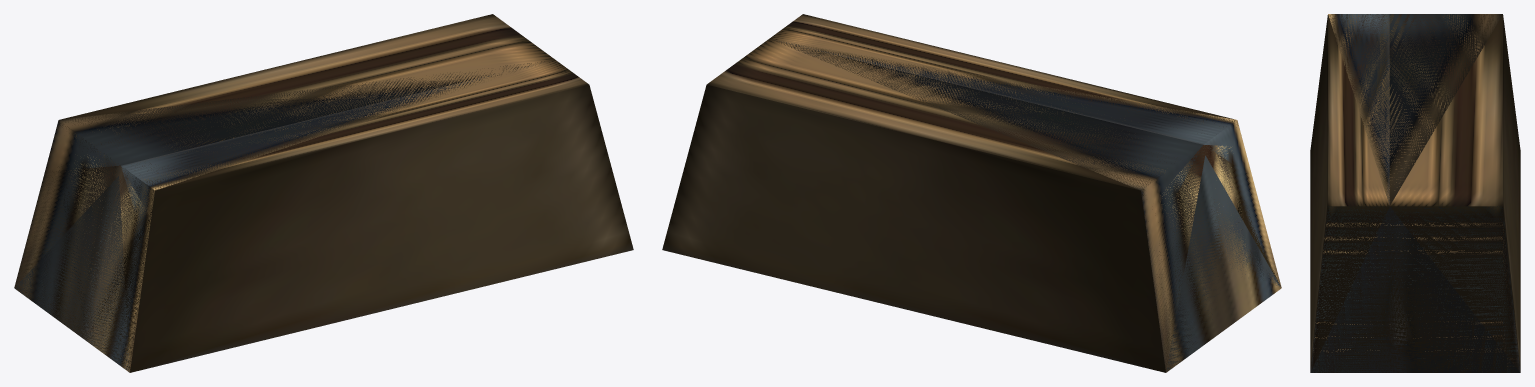
The model's file is 21_sword_morph_fbx.FBX.
3 renders of one model, left to right at view 1: azimuth 30°, elevation 25°; view 2: azimuth 150°, elevation 25°; view 3: azimuth 270°, elevation 25°, orthographic. The views are drawn at different scales.
Visible parts, largest first — view 1: 21_sword; view 2: 21_sword; view 3: 21_sword.
Part boxes in pixels (x1,y1,x2,y2): 21_sword: [14, 14, 633, 372]; 21_sword: [662, 14, 1281, 372]; 21_sword: [1310, 14, 1520, 372].
Size of the model in its own units: 30.8 by 9.75 by 12.26.
